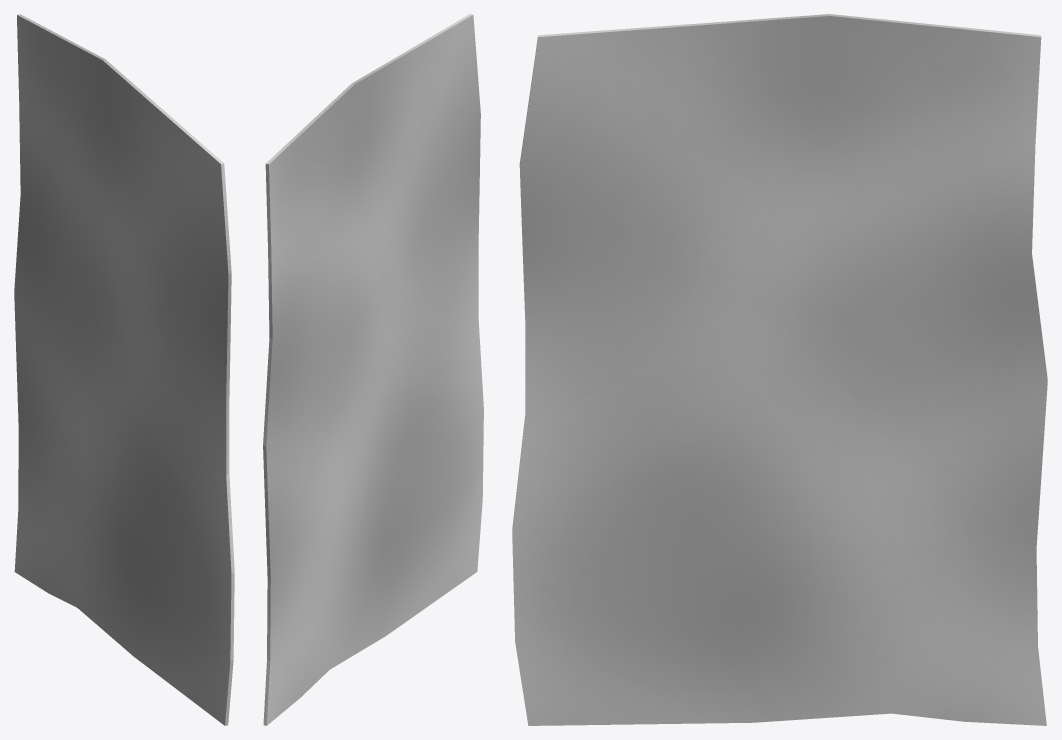
File: paper.obj
The picture shows the model from 3 angles, left to right: view 1: azimuth 30°, elevation 25°; view 2: azimuth 150°, elevation 25°; view 3: azimuth 270°, elevation 25°; orthographic projection. The views are drawn at different scales.
Visible parts, largest first — view 1: Paper_Plocha.019; view 2: Paper_Plocha.019; view 3: Paper_Plocha.019.
Boxes of the visible parts, left/top/right/bottom form: Paper_Plocha.019: left=14, top=14, right=234, bottom=725; Paper_Plocha.019: left=263, top=14, right=483, bottom=725; Paper_Plocha.019: left=512, top=14, right=1047, bottom=725.
Bounding box in the file's own units: 0.0177 × 2.98 × 2.04.
1 material, 1 textured.
